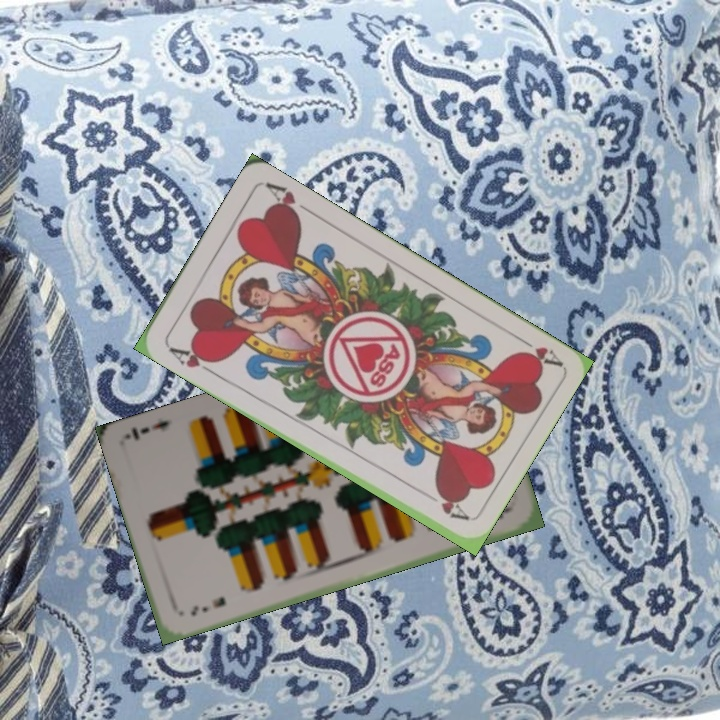E7: (187, 592, 228, 619)
HA: (509, 330, 563, 369), (163, 341, 221, 377)
